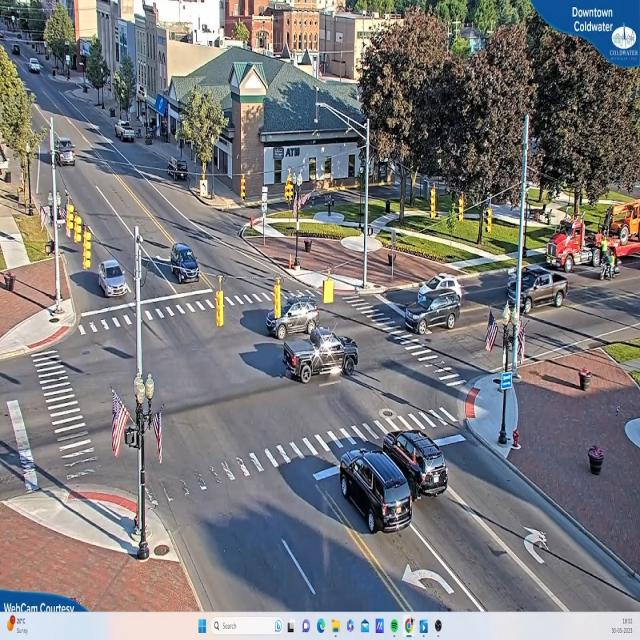car: (338, 446, 415, 534), (281, 324, 371, 386), (382, 431, 448, 497), (505, 266, 569, 310), (406, 290, 462, 340), (268, 300, 320, 340), (418, 264, 463, 302), (97, 258, 129, 298), (170, 244, 200, 282), (56, 139, 76, 168), (117, 121, 137, 145), (28, 59, 43, 75)
